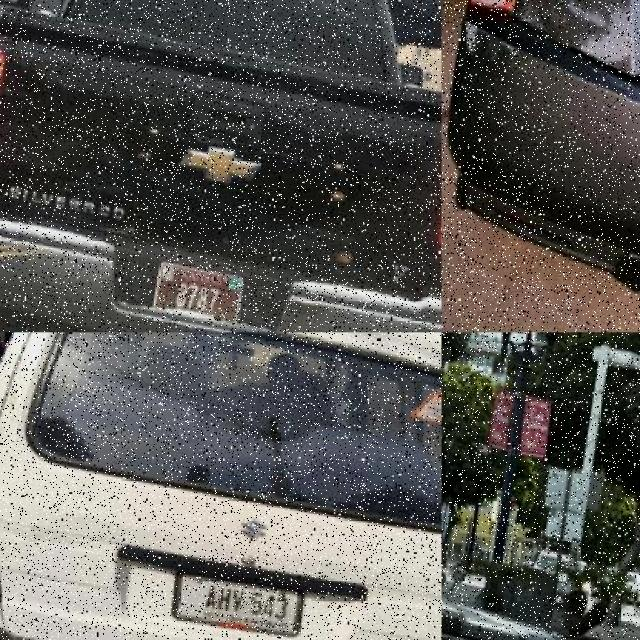licenseplate: (175, 564, 304, 640), (151, 259, 243, 323)
